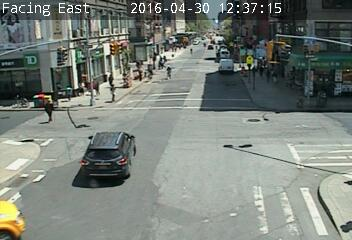neg: (219, 78, 240, 105), (9, 88, 29, 115), (258, 109, 273, 129), (263, 149, 277, 168), (294, 97, 308, 115), (237, 134, 249, 151), (224, 133, 236, 149), (289, 60, 299, 72)
pos: (38, 99, 57, 124), (89, 78, 103, 96), (62, 84, 75, 102), (76, 78, 87, 93)
